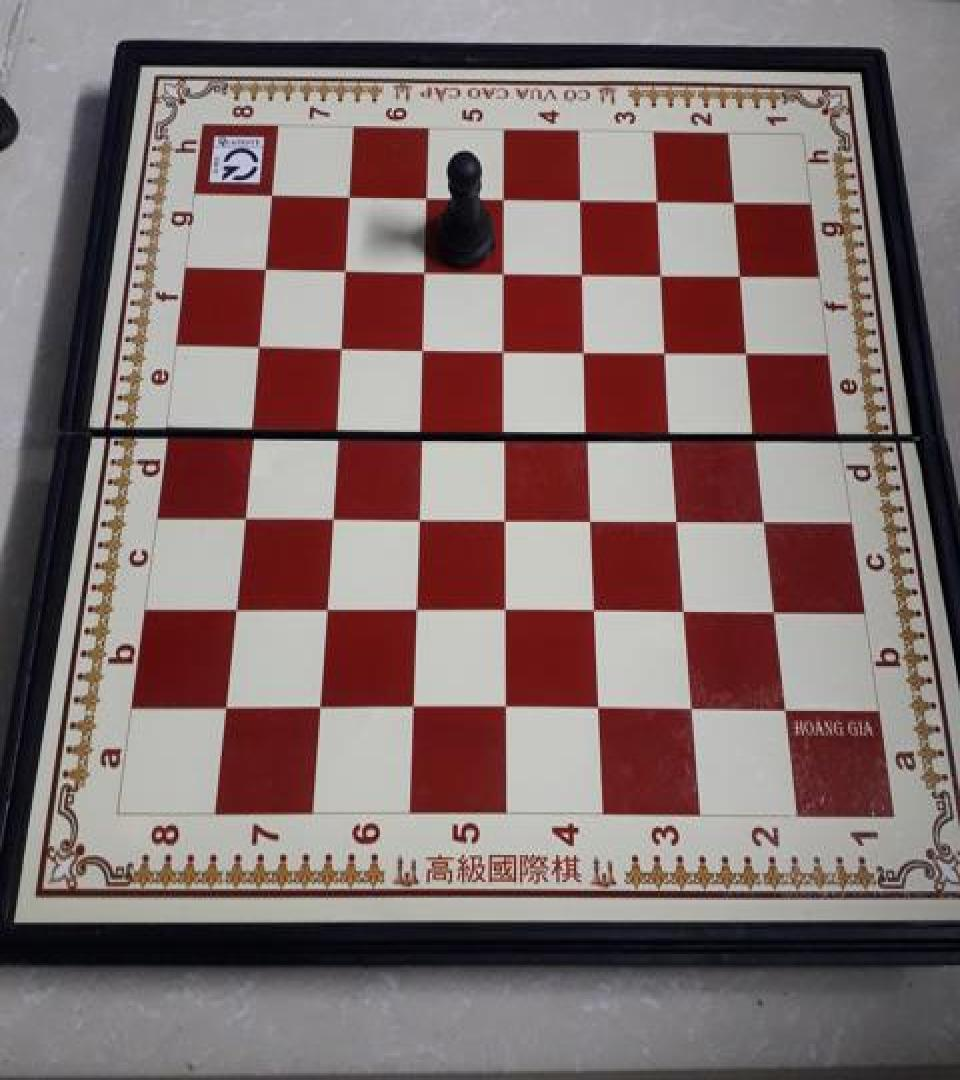xcorner: (212, 691, 244, 727), (306, 692, 338, 728), (400, 692, 432, 728), (494, 693, 526, 729), (587, 693, 619, 729), (680, 693, 712, 729), (772, 694, 804, 730), (221, 590, 253, 626), (312, 592, 344, 628), (403, 592, 435, 628), (493, 593, 525, 629), (583, 594, 615, 630), (673, 594, 705, 630), (762, 595, 794, 631), (229, 497, 261, 533), (317, 498, 349, 534), (405, 500, 437, 536), (492, 500, 524, 536), (579, 500, 611, 536), (666, 502, 698, 538), (752, 503, 784, 539), (237, 410, 269, 446), (322, 410, 354, 446), (407, 412, 439, 448), (492, 413, 524, 449), (576, 414, 608, 450), (660, 415, 692, 451), (743, 416, 775, 452), (244, 328, 276, 364), (409, 330, 441, 366), (491, 331, 523, 367), (573, 332, 605, 368), (654, 333, 686, 369), (735, 334, 767, 370), (251, 250, 283, 286), (331, 251, 363, 287), (411, 252, 443, 288), (491, 254, 523, 290), (570, 256, 602, 292), (649, 256, 681, 292), (727, 258, 759, 294), (257, 176, 289, 212), (335, 179, 367, 215), (413, 180, 445, 216), (490, 181, 522, 217), (567, 184, 599, 220), (644, 184, 676, 220), (327, 329, 359, 364), (720, 186, 752, 221)
